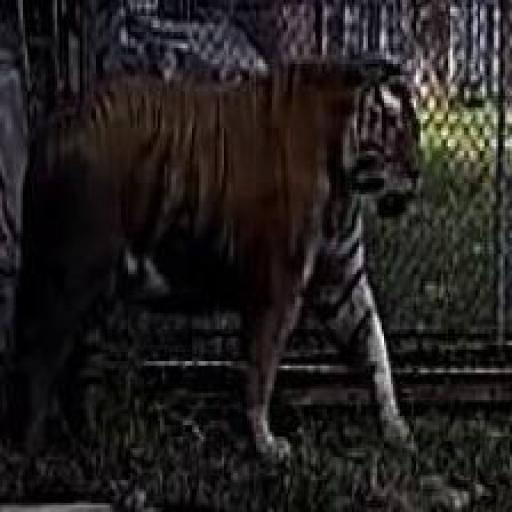Tiger: (14, 41, 468, 496)
